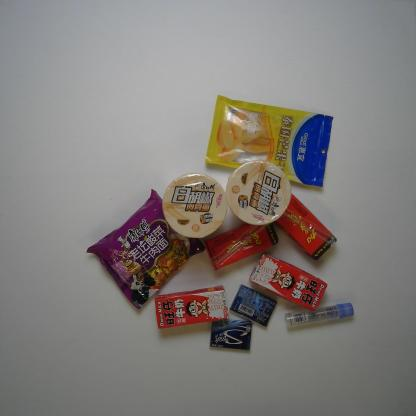Dried Fruit: (204, 94, 332, 188)
Drink: (275, 194, 337, 262), (204, 221, 280, 270)
Gum: (228, 284, 275, 328), (209, 319, 254, 352)
Instant Noodles: (85, 188, 206, 310), (162, 172, 228, 240), (225, 160, 292, 226)
Milk: (248, 254, 326, 312), (154, 285, 229, 330)
Stationery: (285, 301, 355, 329)
